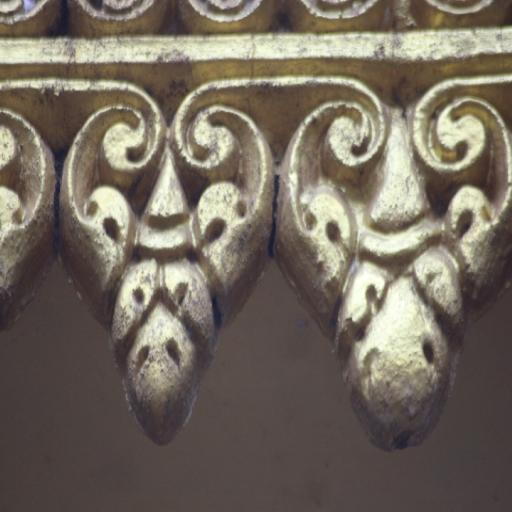la: (285, 72, 512, 452), (60, 71, 287, 451)
